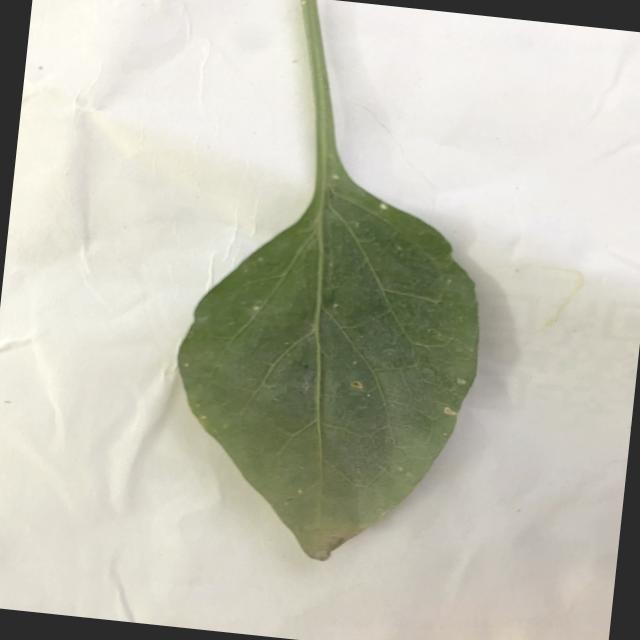Leaf: (155, 160, 498, 578)
